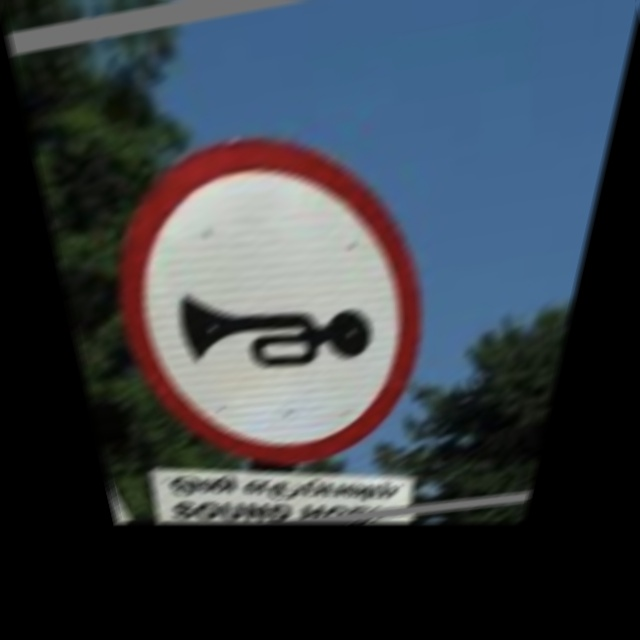Compulsory_Sound_Horn: (91, 125, 456, 456)
